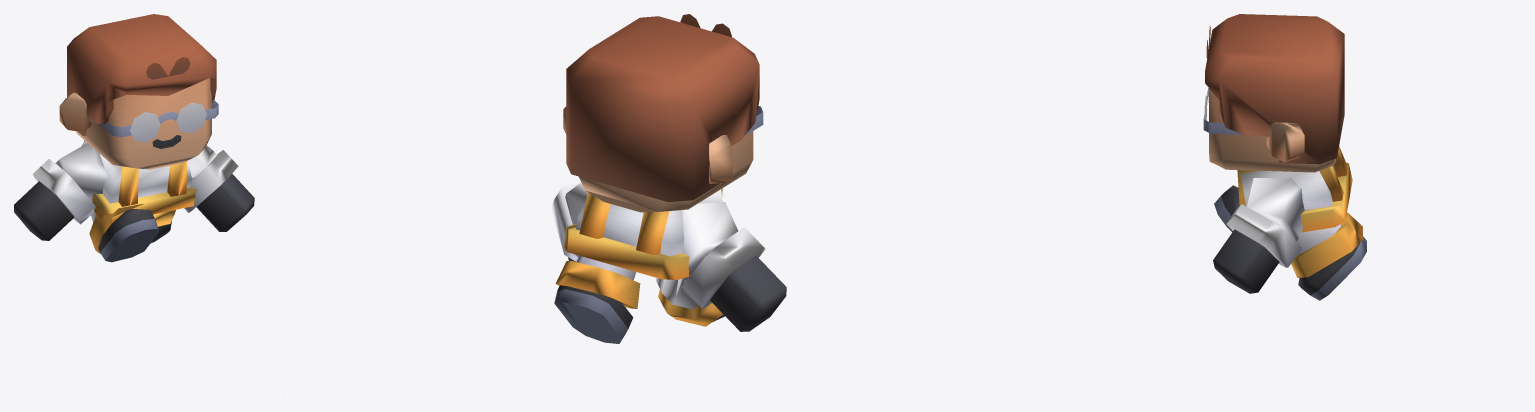
The model's file is builder_sprint_6.glb.
3 views of the same model, side by side, from view 1: azimuth 30°, elevation 25°; view 2: azimuth 150°, elevation 25°; view 3: azimuth 270°, elevation 25° (orthographic). The views are drawn at different scales.
Visible parts, largest first — view 1: builder-sprint-6; view 2: builder-sprint-6; view 3: builder-sprint-6.
Boxes of the visible parts, x1,y1,x2,y2 form: builder-sprint-6: (14,14,254,262); builder-sprint-6: (551,14,786,343); builder-sprint-6: (1203,14,1366,300).
Size of the model in its own units: 1.2 by 0.7458 by 1.2.
1 material, 1 textured.
